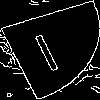I: (25, 25, 64, 73)
